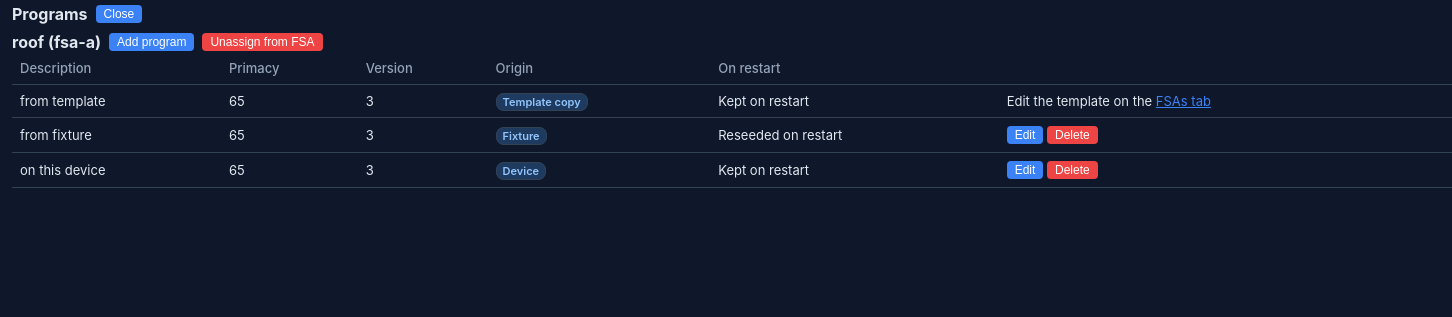
Test: DevicePrograms edit › puts the edit to the device route for a device or fixture program
Click the button with test id "program-edit-derp-f" at (1025, 135), box left=1007, top=126, right=1043, bottom=144
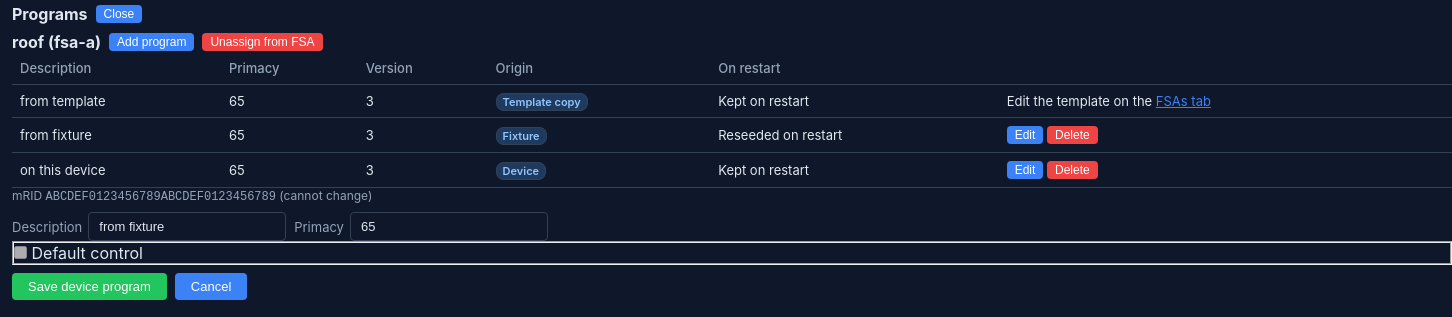
expect the field labelled "Description" holds "from fixture": met
Replace the text in the field labelled "Description" with "renamed" at (187, 226), box left=88, top=212, right=286, bottom=241
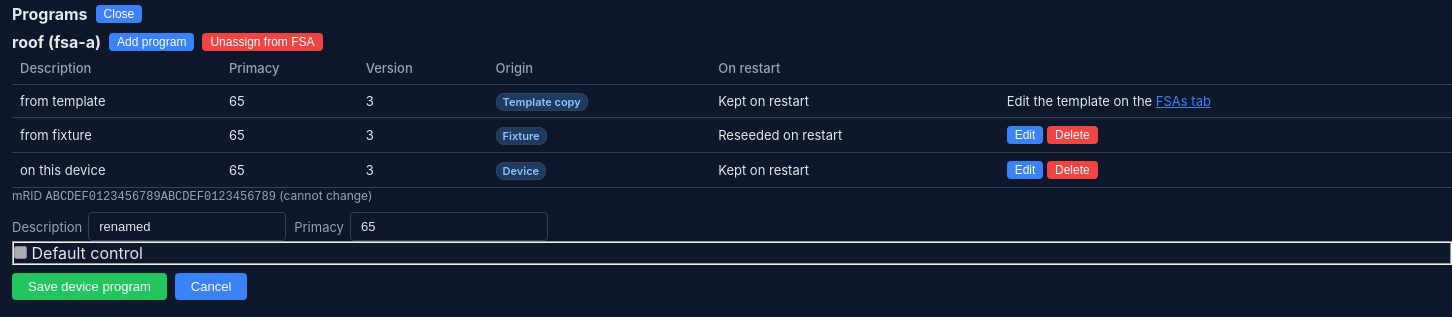
Click the button "Save device program" at (89, 286), box left=12, top=273, right=167, bottom=300
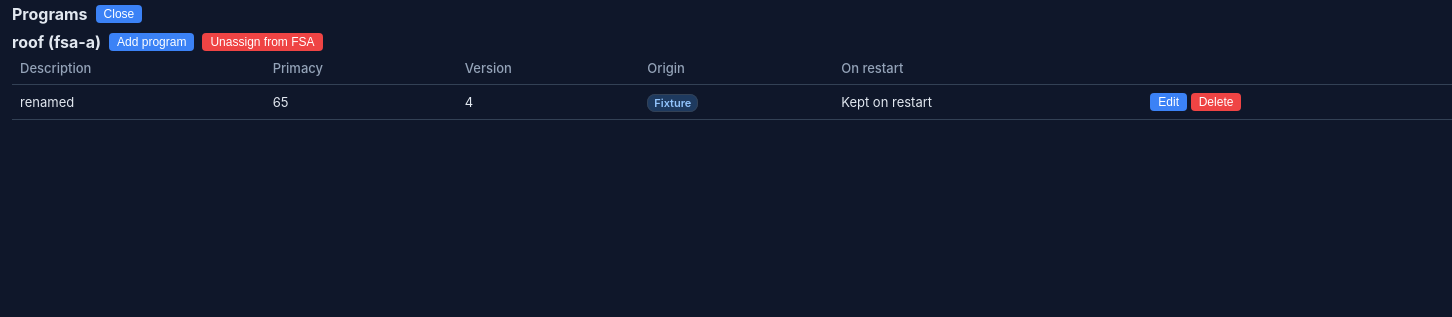
expect the cell with test id "program-version" reads "4": met, box left=465, top=94, right=473, bottom=110
expect the form with test id "program-form" is gone: met
